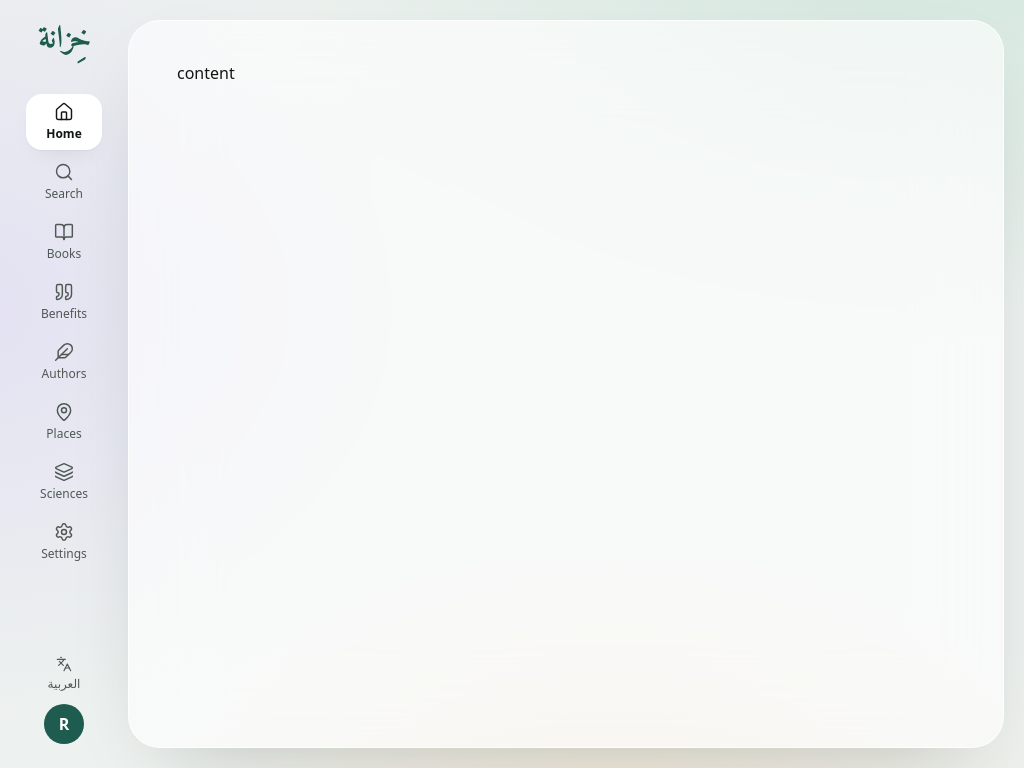
Layout account controls › stays signed in and says so if signing out fails
This screenshot has width=1024, height=768.
Click the button named "Your account" at (64, 724), box [40, 700, 88, 748]
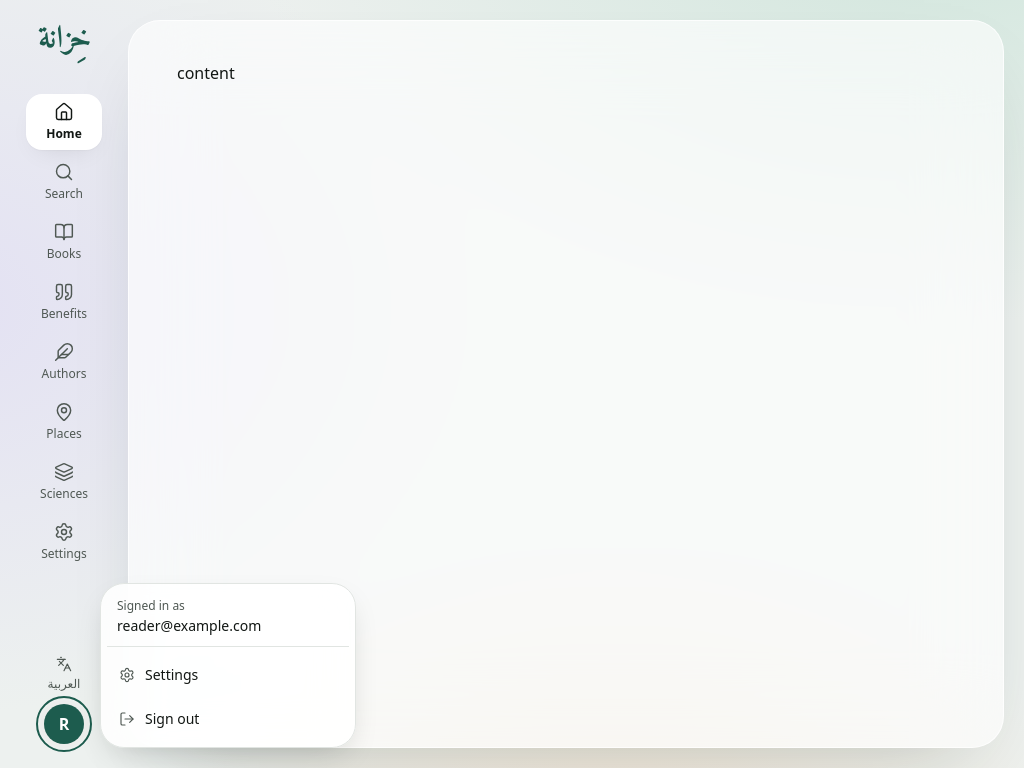
Click the button "Sign out" at (228, 719), box [107, 697, 349, 741]
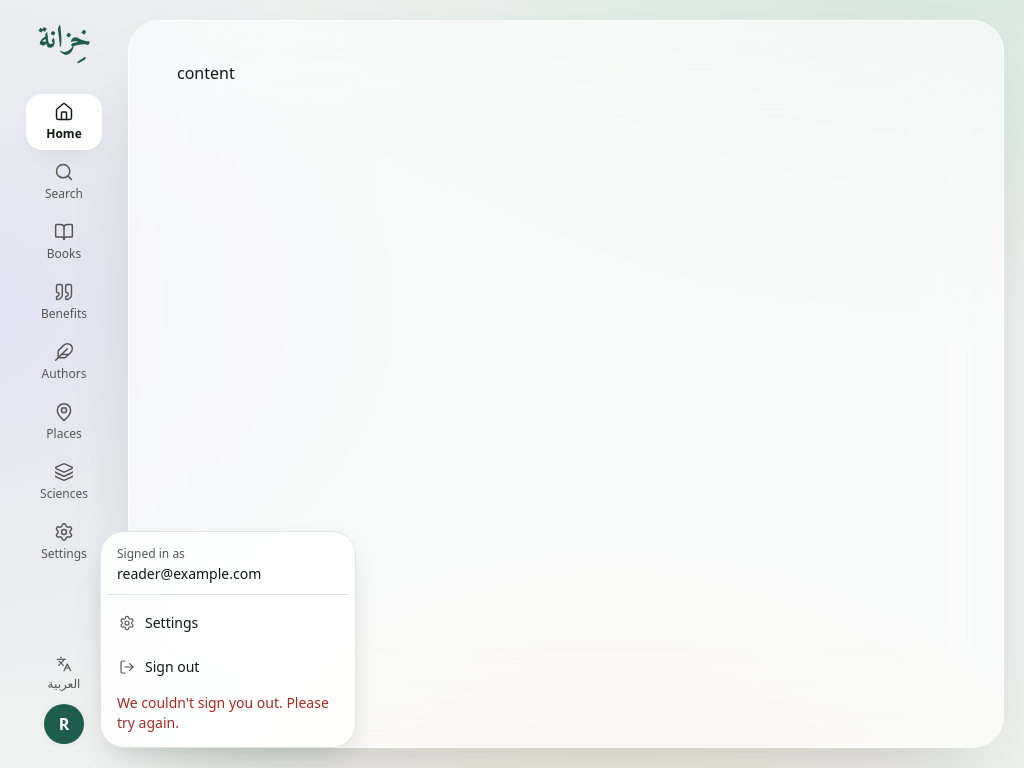
Expected: the button "Sign out" is shown, [107, 645, 349, 689]
Expected: the message shows "We couldn't sign you out", [117, 693, 329, 732]
